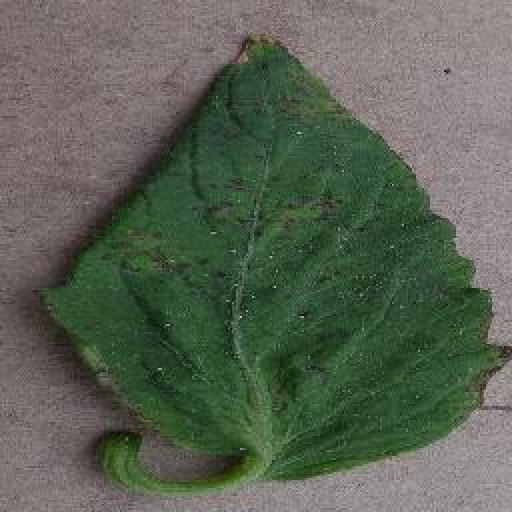Bacterial Spot: (37, 30, 512, 474)
